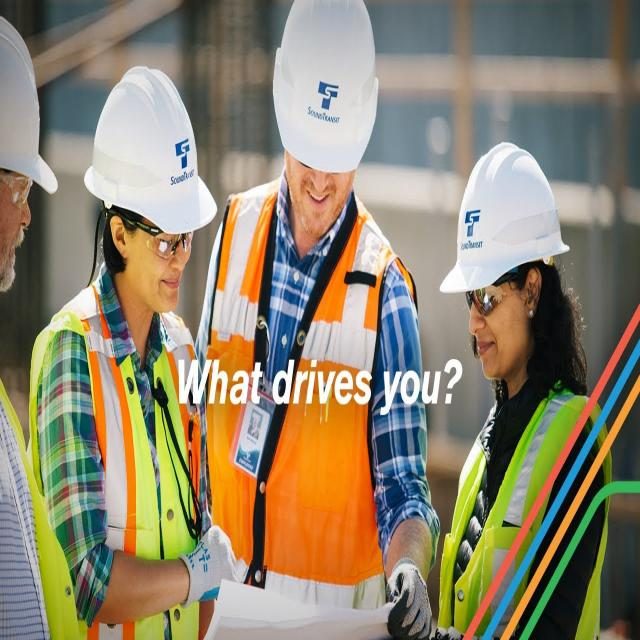Reflective-Jacket: (204, 199, 411, 635), (32, 290, 198, 640), (438, 359, 638, 640), (0, 321, 79, 640), (0, 339, 35, 631)
Safety-Helmet: (81, 61, 216, 242), (438, 132, 570, 302), (267, 5, 381, 175), (0, 9, 59, 201)
